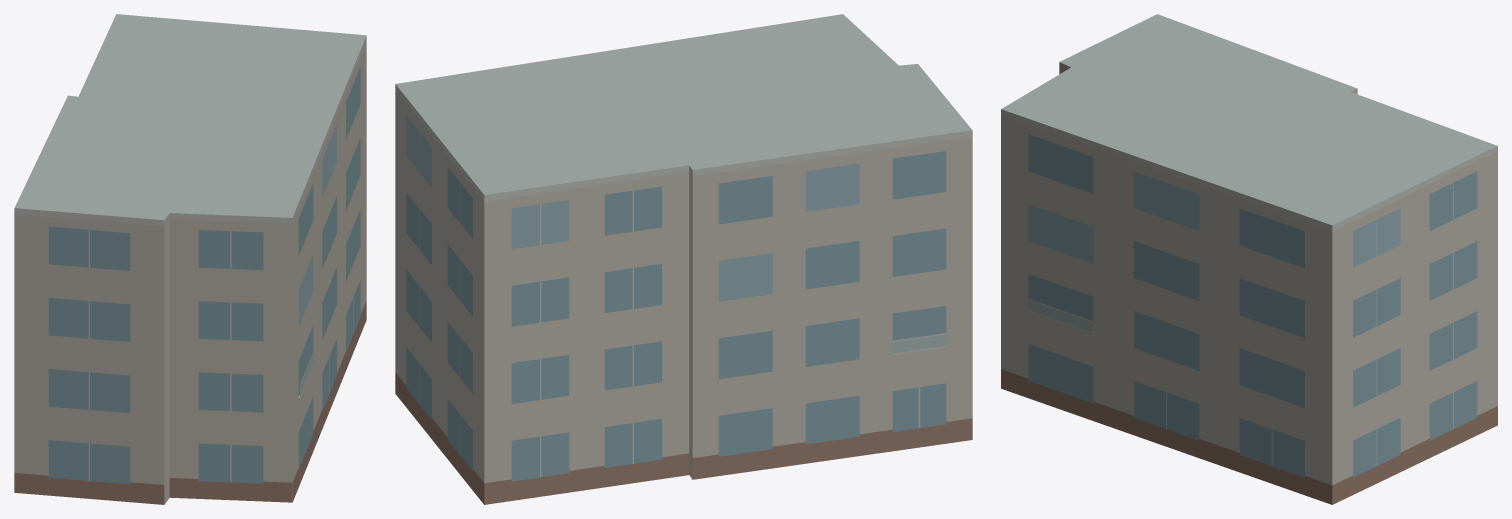
The model's file is survey-upis-32610190.glb.
The picture shows the model from 3 angles, left to right: view 1: azimuth 30°, elevation 25°; view 2: azimuth 150°, elevation 25°; view 3: azimuth 270°, elevation 25°; orthographic projection. The views are drawn at different scales.
Visible parts, largest first — view 1: survey-upis-32610190.tmp; view 2: survey-upis-32610190.tmp; view 3: survey-upis-32610190.tmp.
Part boxes in pixels (box(x1,y1,x2,y2)): survey-upis-32610190.tmp: box(14, 14, 366, 504); survey-upis-32610190.tmp: box(395, 14, 972, 504); survey-upis-32610190.tmp: box(1001, 14, 1497, 504).
Size of the model in its own units: 18.99 by 11.7 by 18.85.
